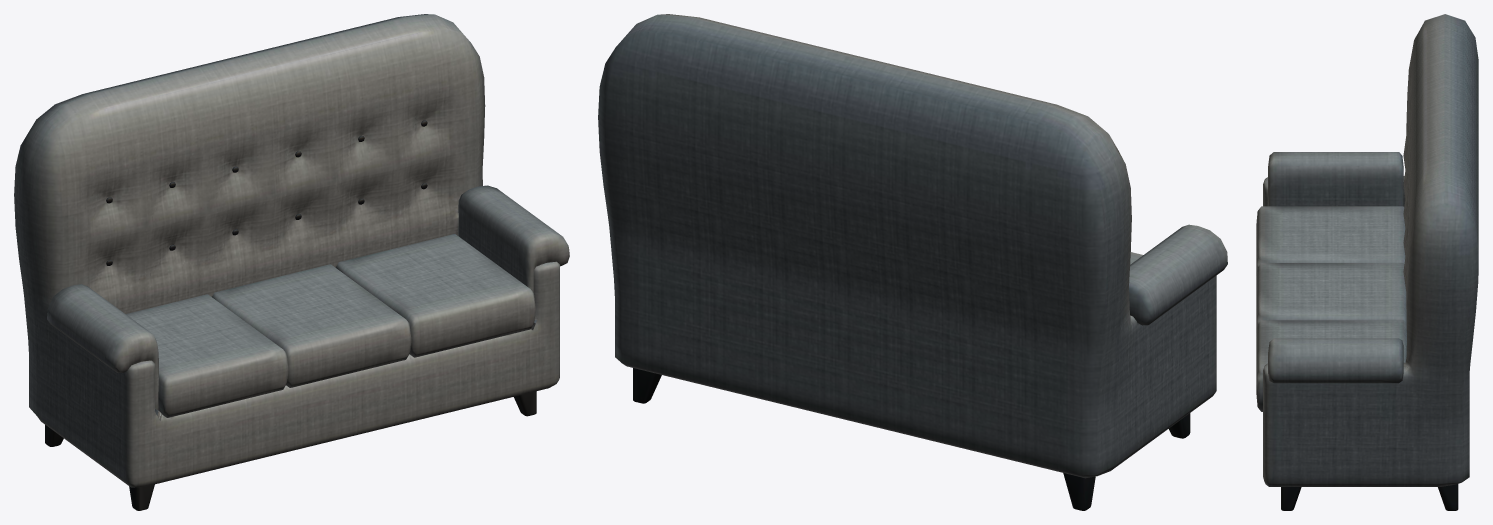
File: SofaSmall.fbx
3 renders of one model, left to right at view 1: azimuth 30°, elevation 25°; view 2: azimuth 150°, elevation 25°; view 3: azimuth 270°, elevation 25°, orthographic. The views are drawn at different scales.
Visible parts, largest first — view 1: SOFA3; view 2: SOFA3; view 3: SOFA3.
Boxes of the visible parts, bbox=[...] form: SOFA3: bbox=[14, 14, 569, 510]; SOFA3: bbox=[598, 14, 1227, 510]; SOFA3: bbox=[1256, 14, 1478, 510].
Size of the model in its own units: 359 by 259 by 161.
1 material, 1 textured.
